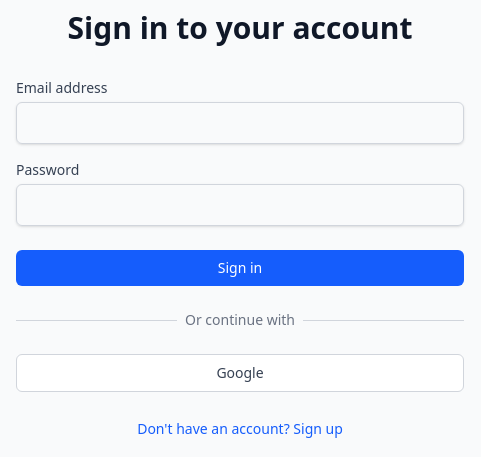
Test: LoginView › submission state › shows "Please wait..." during submission
Step 1. Type "test@example.com" into the field labelled "Email address" → (240, 123), box x1=16 y1=102 x2=464 y2=144
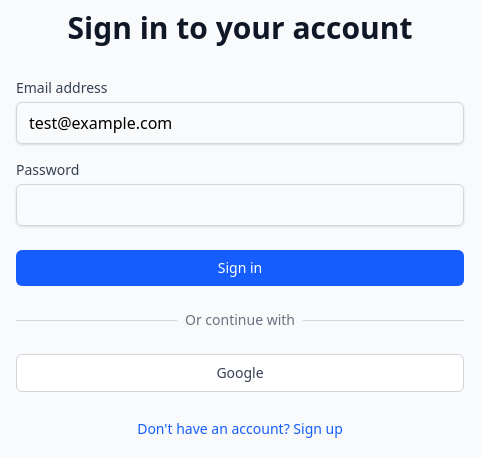
Step 2. Type "password123" into the password field labelled "Password" → (240, 205), box x1=16 y1=184 x2=464 y2=226
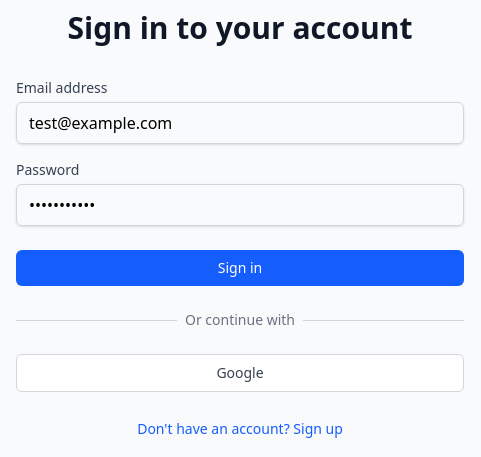
Step 3. Submit the form labelled "Email address"
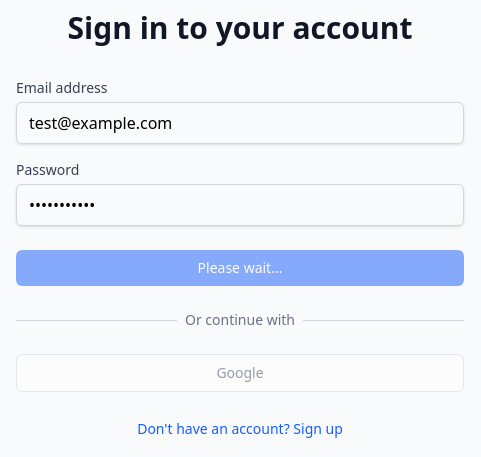
Expected: the button "Please wait..." is shown, x1=16 y1=250 x2=464 y2=286
